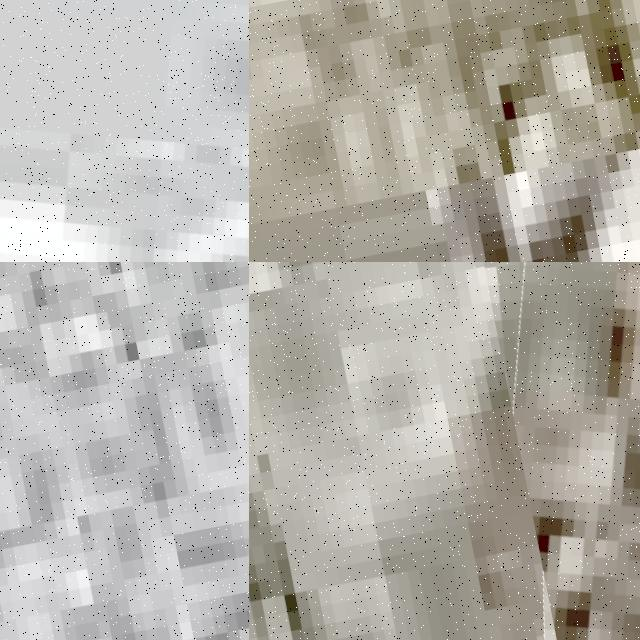drone: (455, 262, 640, 640), (0, 0, 249, 262)
